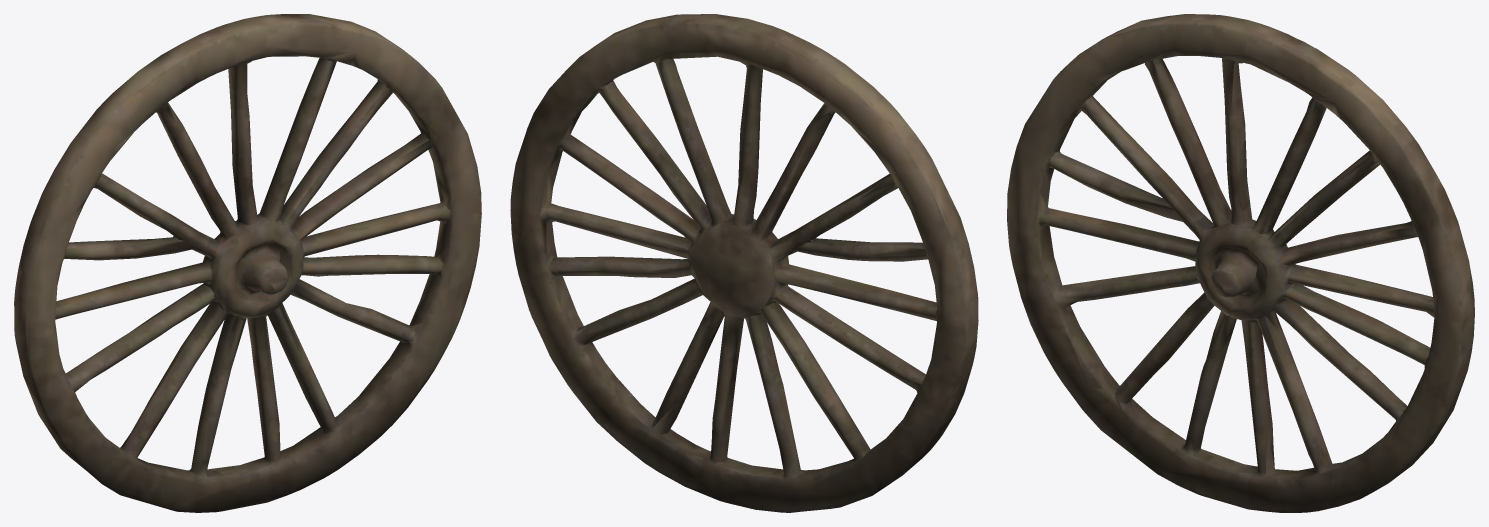
The model's file is plain-wood-wheelchair-v003.glb.
The picture shows the model from 3 angles, left to right: view 1: azimuth 30°, elevation 25°; view 2: azimuth 150°, elevation 25°; view 3: azimuth 330°, elevation 25°; orthographic projection.
Visible parts, largest first — view 1: plain-wood-wheelchair; view 2: plain-wood-wheelchair; view 3: plain-wood-wheelchair.
Part boxes in pixels (box(x1,y1,x2,y2)): plain-wood-wheelchair: box(14, 14, 481, 512); plain-wood-wheelchair: box(510, 14, 978, 512); plain-wood-wheelchair: box(1007, 14, 1474, 512).
Size of the model in its own units: 0.9076 by 0.9088 by 0.104.
1 material, 1 textured.
